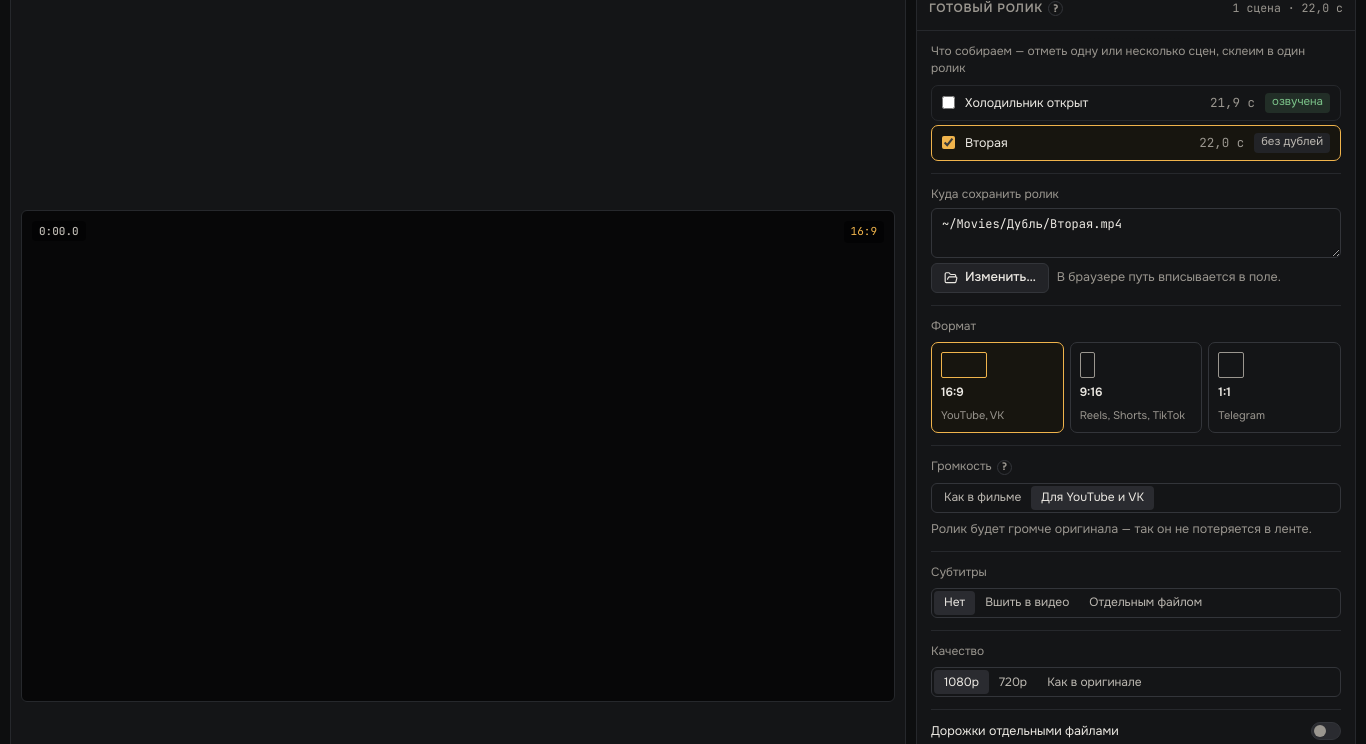
Scenario: Рендер: несколько сцен в один ролик › отмечаю две сцены → кнопка про склейку → задача со шагом «Склейка»
Expected: the text "Что собираем" is shown, [931, 43, 1015, 59]
Click the checkbox labelled "Холодильник открыт 21,9 с озвучена" at x=948, y=103, box [942, 96, 955, 109]
(page scrolled)
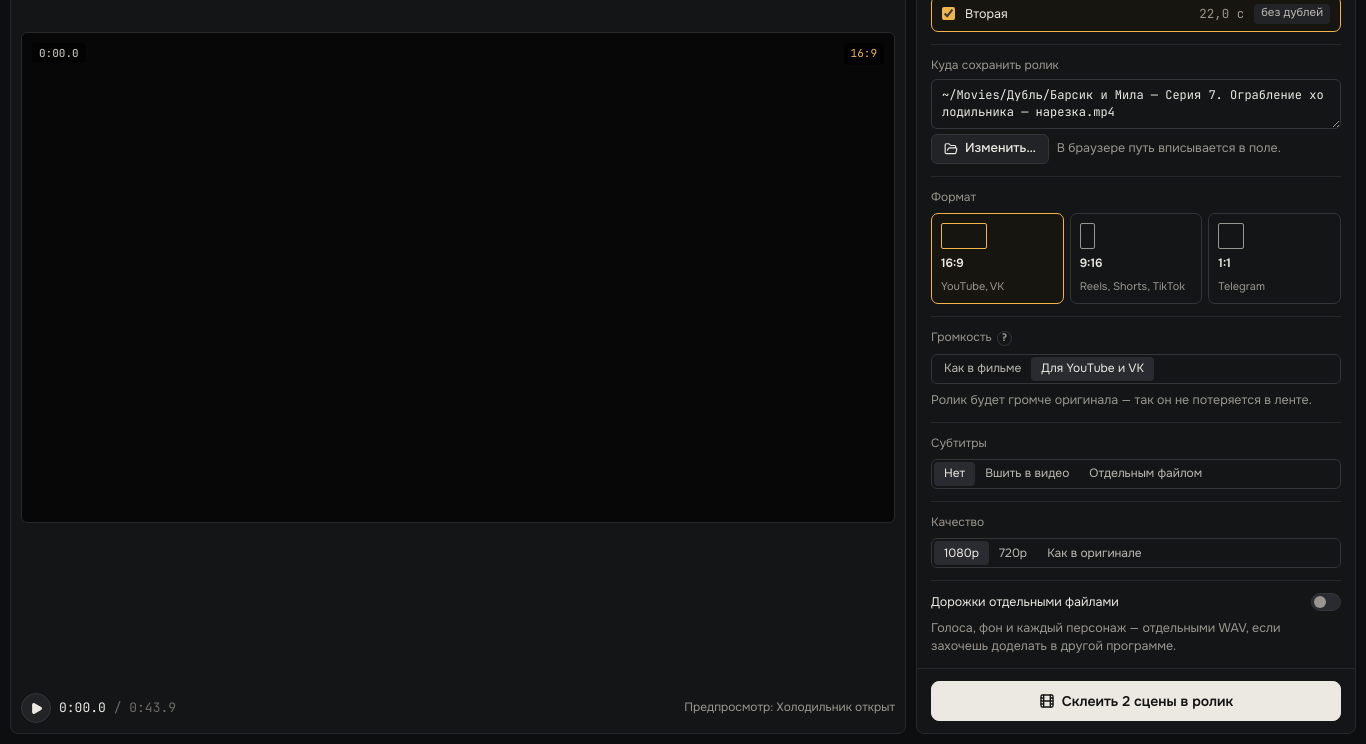
Click the button "Склеить 2 сцены в ролик" at x=1136, y=701, box [931, 681, 1341, 721]
(page scrolled)
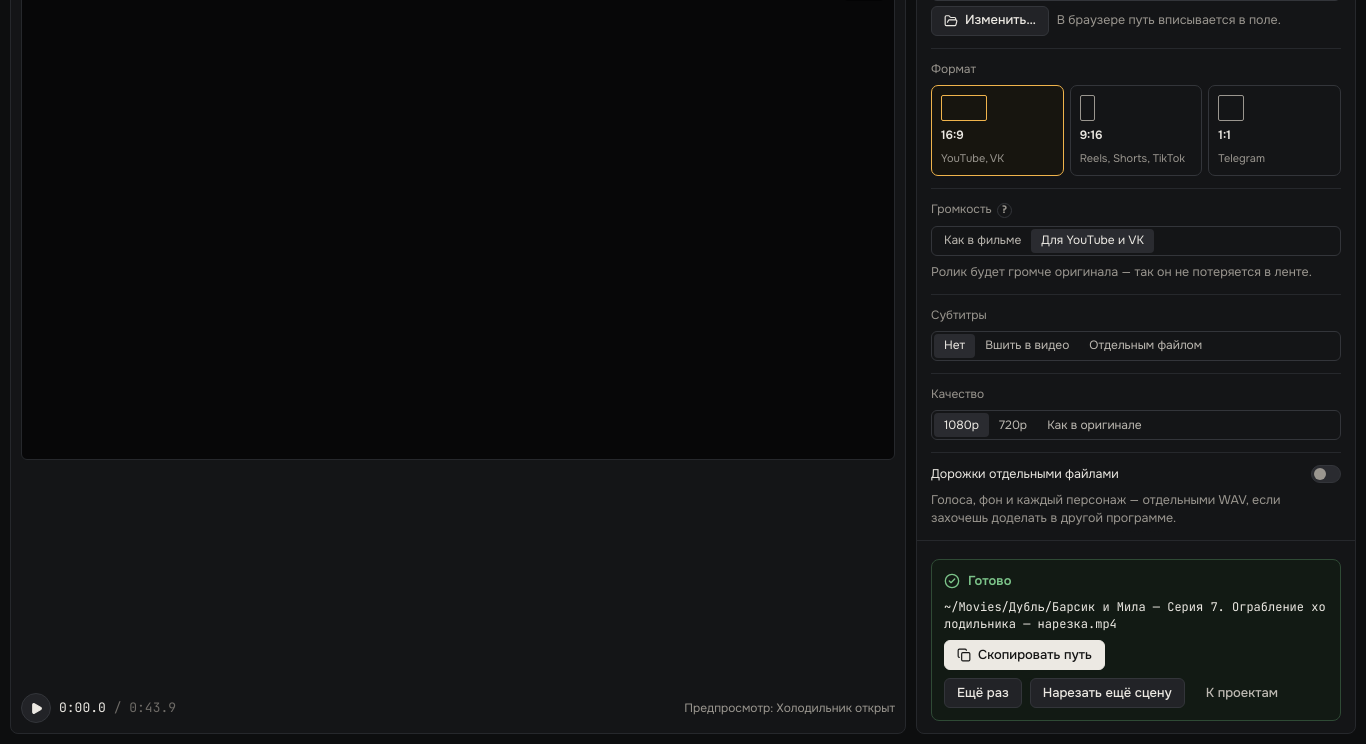
Expected: the element with test id "done" is shown, [931, 559, 1341, 721]
